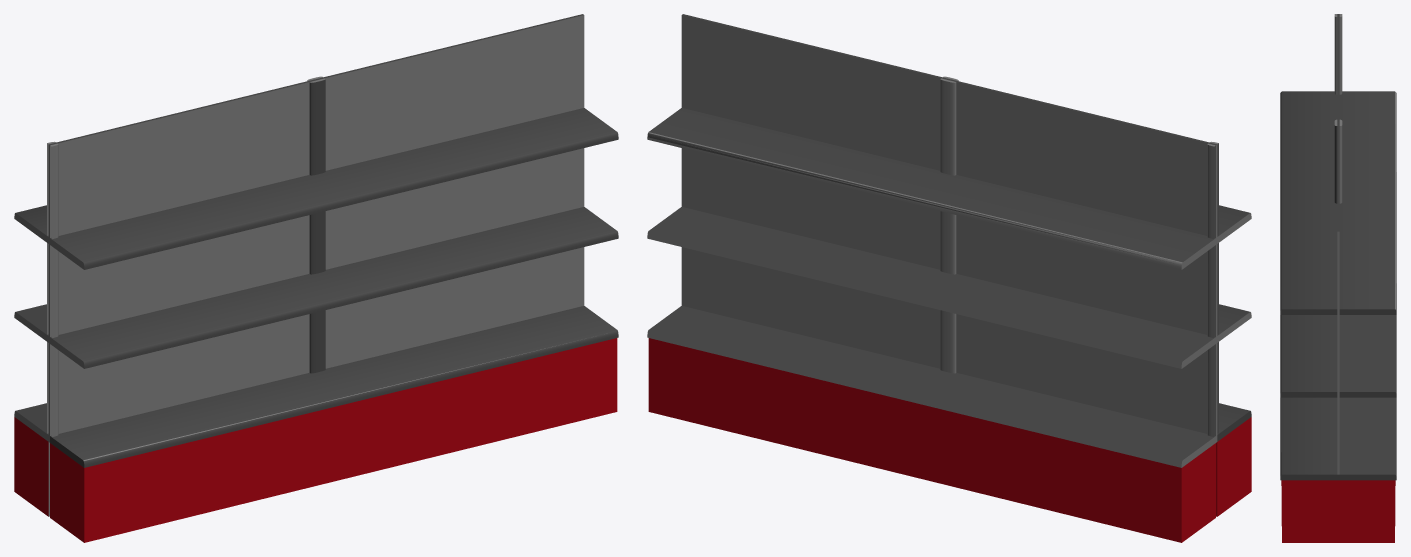
Rendered from Shelter_Empty(Textured+color).glb.
3 views of the same model, side by side, from view 1: azimuth 30°, elevation 25°; view 2: azimuth 150°, elevation 25°; view 3: azimuth 270°, elevation 25° (orthographic). The views are drawn at different scales.
Visible parts, largest first — view 1: Stagger_Large.001_M_SUpermarket_0; view 2: Stagger_Large.001_M_SUpermarket_0; view 3: Stagger_Large.001_M_SUpermarket_0.
Boxes of the visible parts, bbox=[...] form: Stagger_Large.001_M_SUpermarket_0: bbox=[14, 14, 618, 542]; Stagger_Large.001_M_SUpermarket_0: bbox=[647, 14, 1251, 542]; Stagger_Large.001_M_SUpermarket_0: bbox=[1280, 14, 1396, 542].
Bounding box in the file's own units: 8.81 × 5.87 × 1.99.
